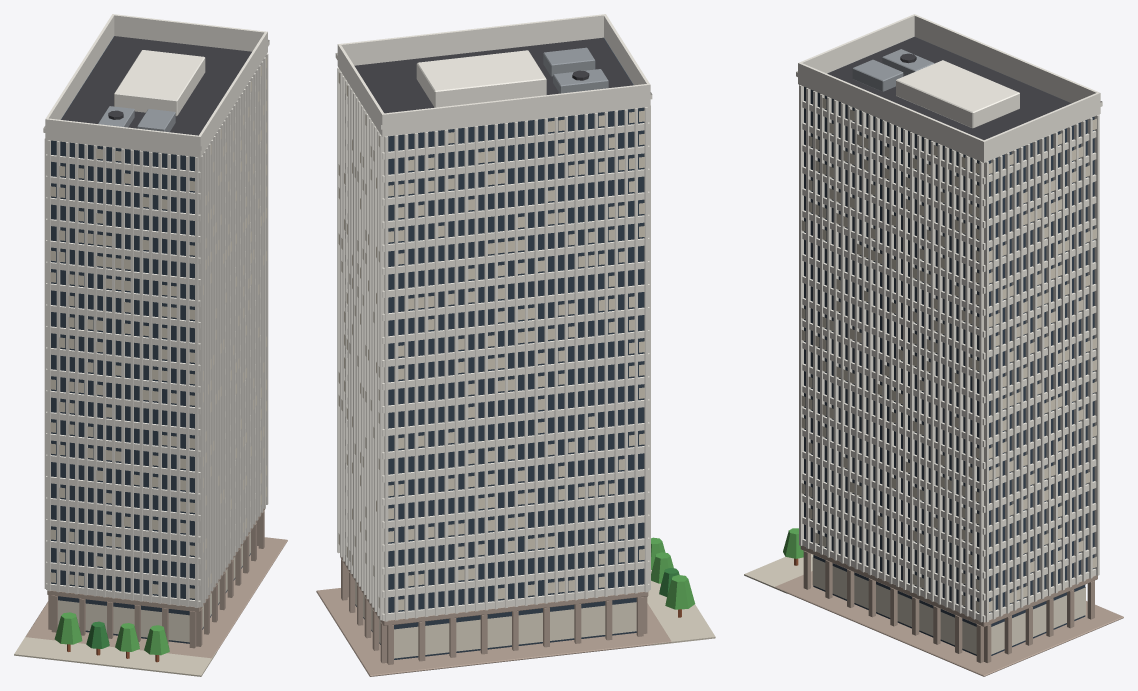
The model's file is 555-market-street.glb.
3 renders of one model, left to right at view 1: azimuth 30°, elevation 25°; view 2: azimuth 150°, elevation 25°; view 3: azimuth 270°, elevation 25°, orthographic. The views are drawn at different scales.
Visible parts, largest first — view 1: 555-market-street_body, 555-market-street_night_glow; view 2: 555-market-street_body, 555-market-street_night_glow; view 3: 555-market-street_body, 555-market-street_night_glow.
Boxes of the visible parts, x1,y1,x2,y2 form: 555-market-street_body: (14, 14, 287, 676); 555-market-street_night_glow: (43, 39, 269, 642); 555-market-street_body: (316, 14, 715, 676); 555-market-street_night_glow: (335, 53, 652, 658); 555-market-street_body: (744, 14, 1123, 676); 555-market-street_night_glow: (796, 71, 1102, 654).
Bounding box in the file's own units: 62.18 × 94.8 × 62.13.
